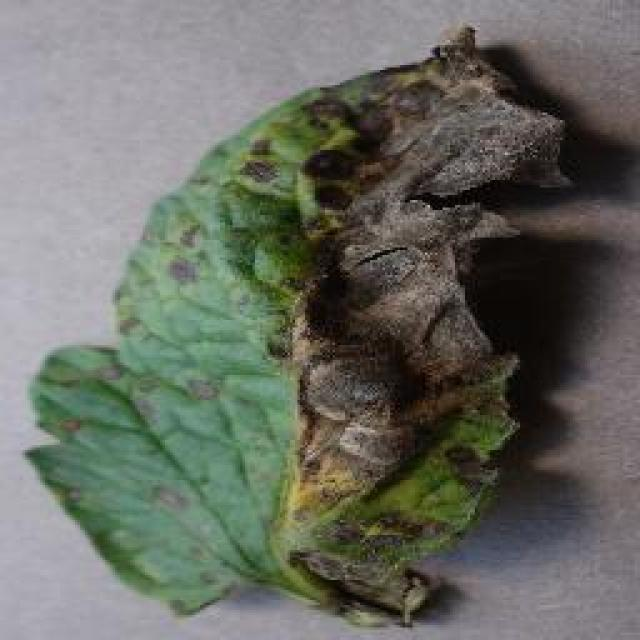Tomato Early blight leaf: (27, 21, 570, 628)
